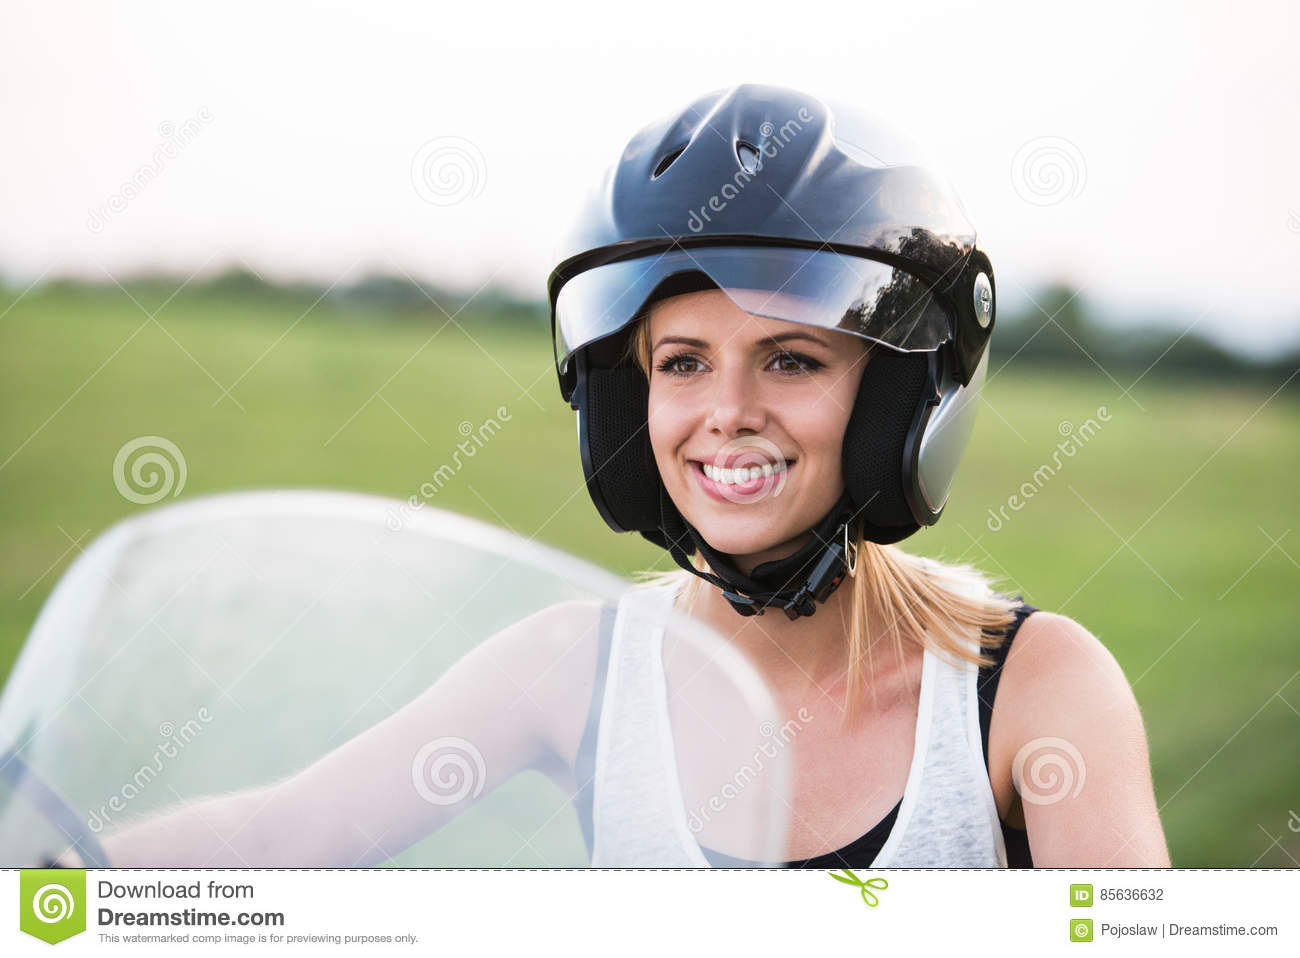helmet: (554, 92, 1012, 505)
